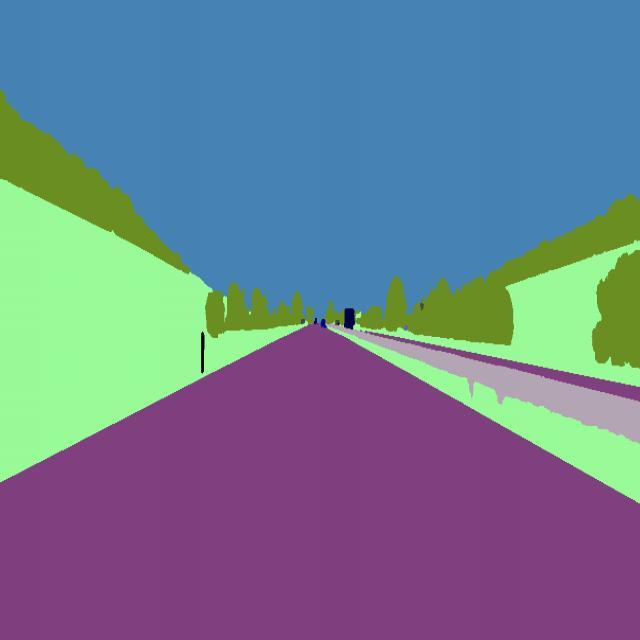safe: (342, 304, 357, 336)
